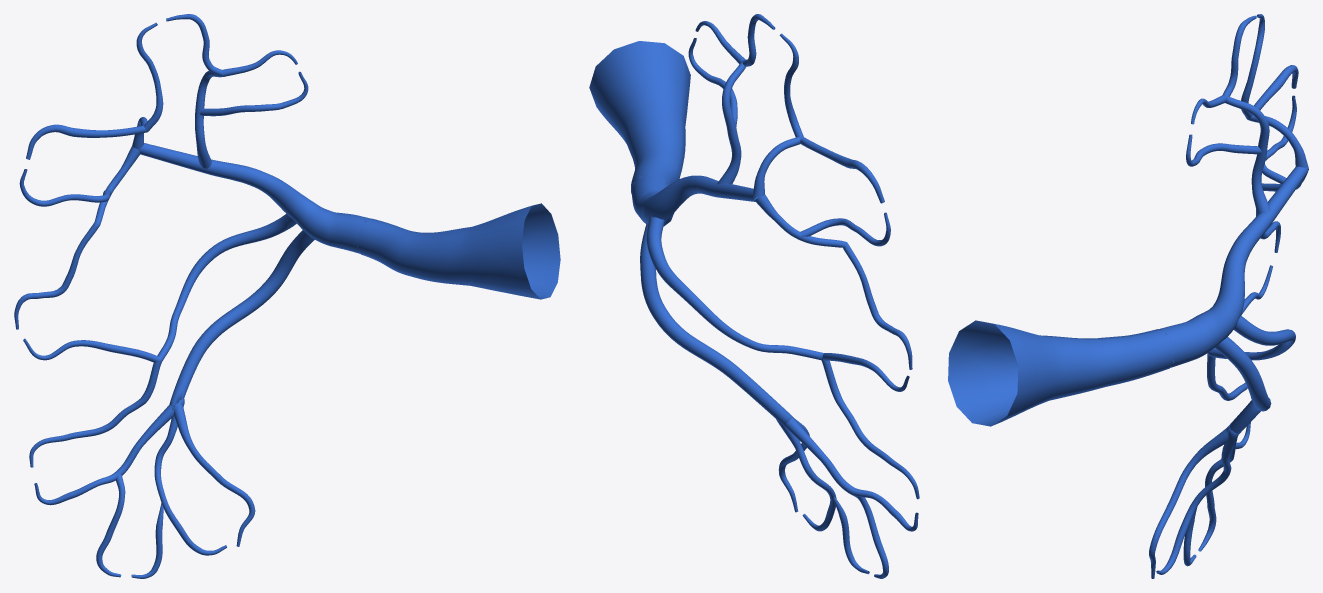
The model's file is circulatorio-right-renal-vein.glb.
The picture shows the model from 3 angles, left to right: view 1: azimuth 30°, elevation 25°; view 2: azimuth 150°, elevation 25°; view 3: azimuth 270°, elevation 25°; orthographic projection. The views are drawn at different scales.
Parts seen in each view (by area): view 1: Intrarenal veins of right kidney, Right renal vein; view 2: Intrarenal veins of right kidney, Right renal vein; view 3: Intrarenal veins of right kidney, Right renal vein.
Boxes of the visible parts, x1,y1,x2,y2 form: Intrarenal veins of right kidney: (14,14,370,578); Right renal vein: (357,203,560,299); Intrarenal veins of right kidney: (631,14,919,578); Right renal vein: (589,41,690,194); Intrarenal veins of right kidney: (1149,14,1308,578); Right renal vein: (948,320,1174,426).
Bounding box in the file's own units: 0.0652 × 0.0775 × 0.0437.
